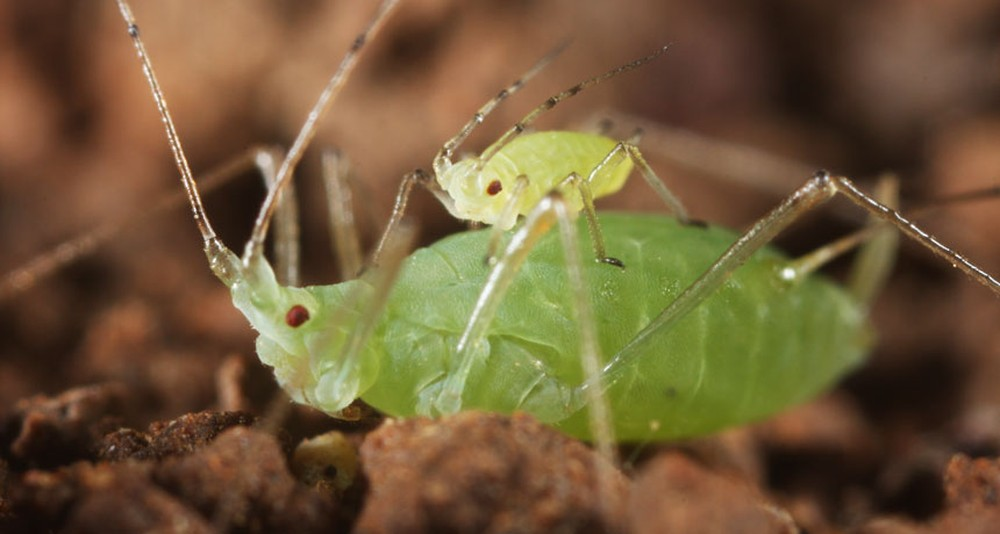Pulgon: (166, 30, 980, 476), (399, 57, 726, 275)
